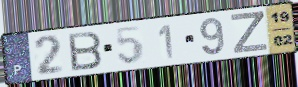1: (158, 23, 175, 60)
2: (32, 34, 66, 77)
5: (114, 25, 147, 66)
9: (198, 17, 226, 57)
B: (65, 30, 104, 73)
Z: (229, 10, 270, 55)
